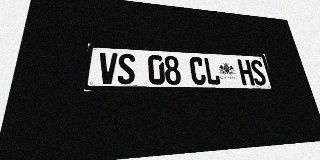0: (148, 55, 165, 85)
8: (164, 56, 181, 85)
C: (189, 57, 207, 85)
H: (237, 59, 255, 85)
L: (203, 57, 221, 85)
S: (117, 53, 135, 84), (249, 60, 267, 85)
V: (98, 52, 117, 84)
